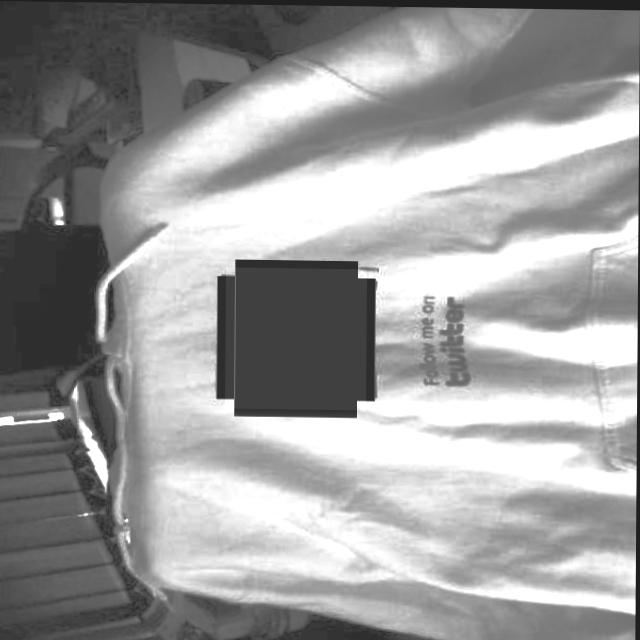qr_code: (226, 266, 367, 408)
